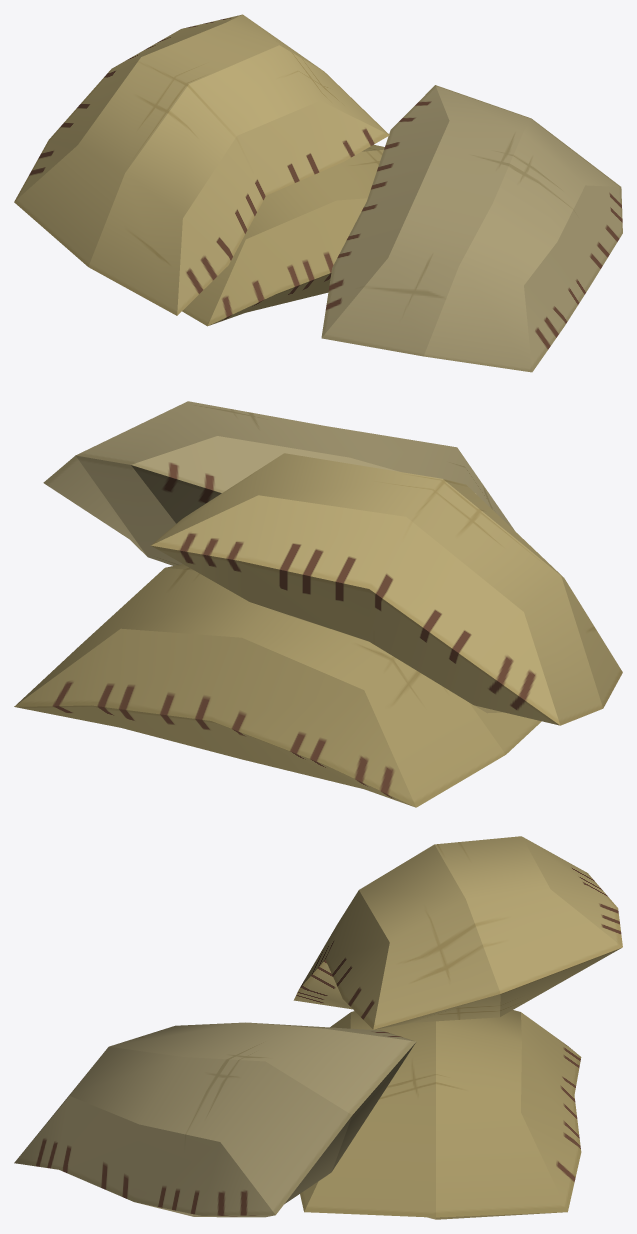
Rendered from Sack 01.fbx.
3 renders of one model, top to bottom at view 1: azimuth 30°, elevation 25°; view 2: azimuth 150°, elevation 25°; view 3: azimuth 270°, elevation 25°, orthographic. The views are drawn at different scales.
Parts seen in each view (by area): view 1: Sack_01; view 2: Sack_01; view 3: Sack_01.
Part boxes in pixels (bbox=[...]): Sack_01: bbox=[14, 14, 622, 372]; Sack_01: bbox=[14, 401, 622, 807]; Sack_01: bbox=[14, 836, 622, 1219].
Size of the model in its own units: 192 by 84.86 by 177.
